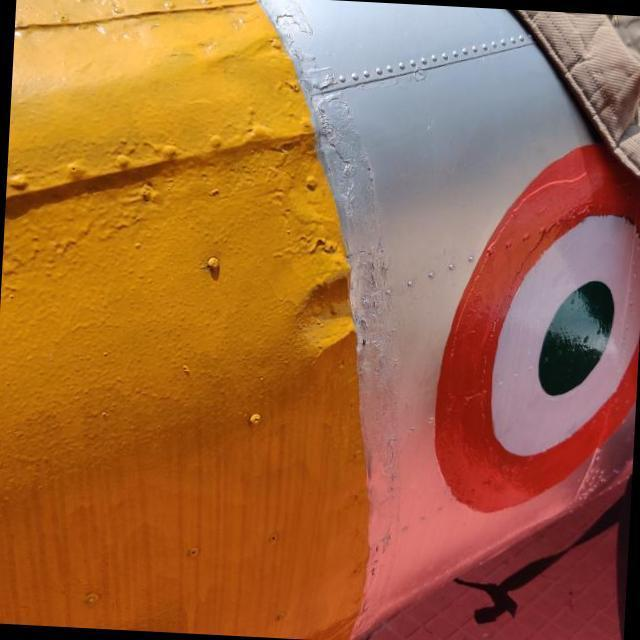Dent: (270, 244, 392, 386)
